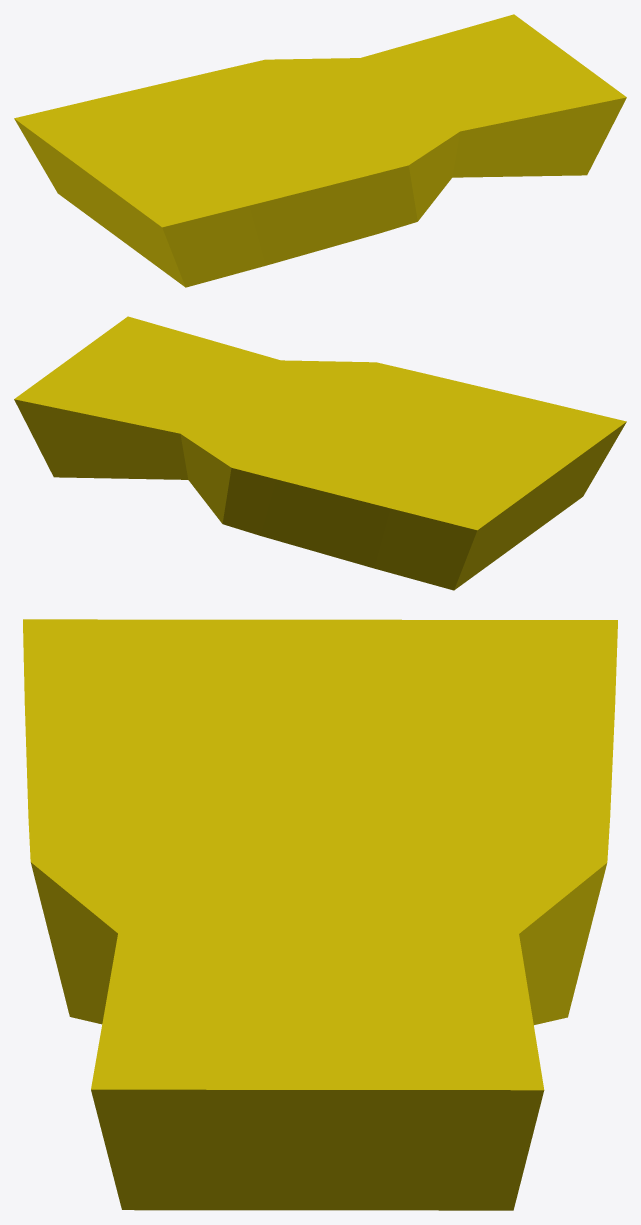
Rendered from SM_Terrerno_Tutorial plano.fbx.
The picture shows the model from 3 angles, top to bottom: view 1: azimuth 30°, elevation 25°; view 2: azimuth 150°, elevation 25°; view 3: azimuth 270°, elevation 25°; orthographic projection. The views are drawn at different scales.
Parts seen in each view (by area): view 1: Plane.002; view 2: Plane.002; view 3: Plane.002.
Boxes of the visible parts, x1=… form: Plane.002: x1=14, y1=14, x2=626, y2=287; Plane.002: x1=14, y1=316, x2=626, y2=590; Plane.002: x1=23, y1=619, x2=617, y2=1210.
Size of the model in its own units: 3664 by 551 by 1958.
